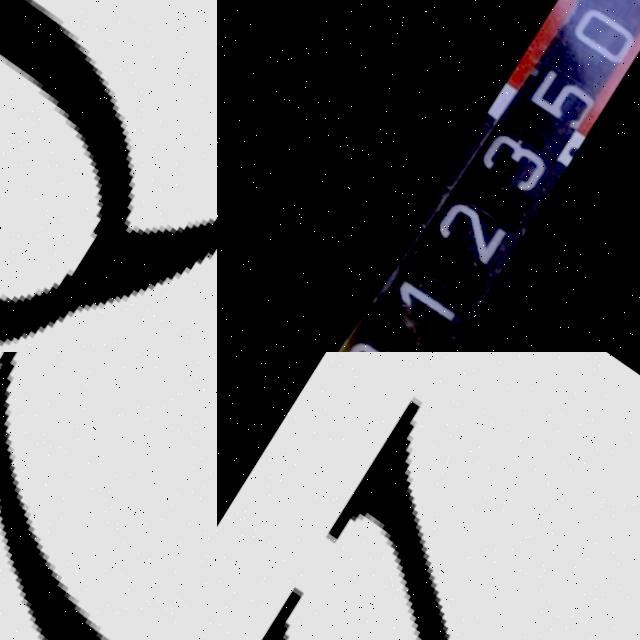0: (562, 0, 638, 64), (322, 328, 409, 352)
1: (379, 264, 460, 336)
2: (424, 188, 508, 268)
3: (466, 117, 550, 197)
5: (520, 53, 598, 129)
G: (0, 352, 217, 640)
K: (217, 352, 640, 640)
Q: (0, 0, 217, 352)
